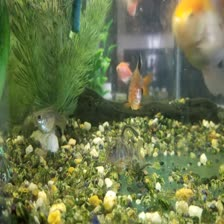Cuezo: (170, 0, 223, 99)
Guppy: (25, 99, 73, 132)
Kiros: (82, 125, 152, 180)
Transparente: (126, 64, 157, 115)
